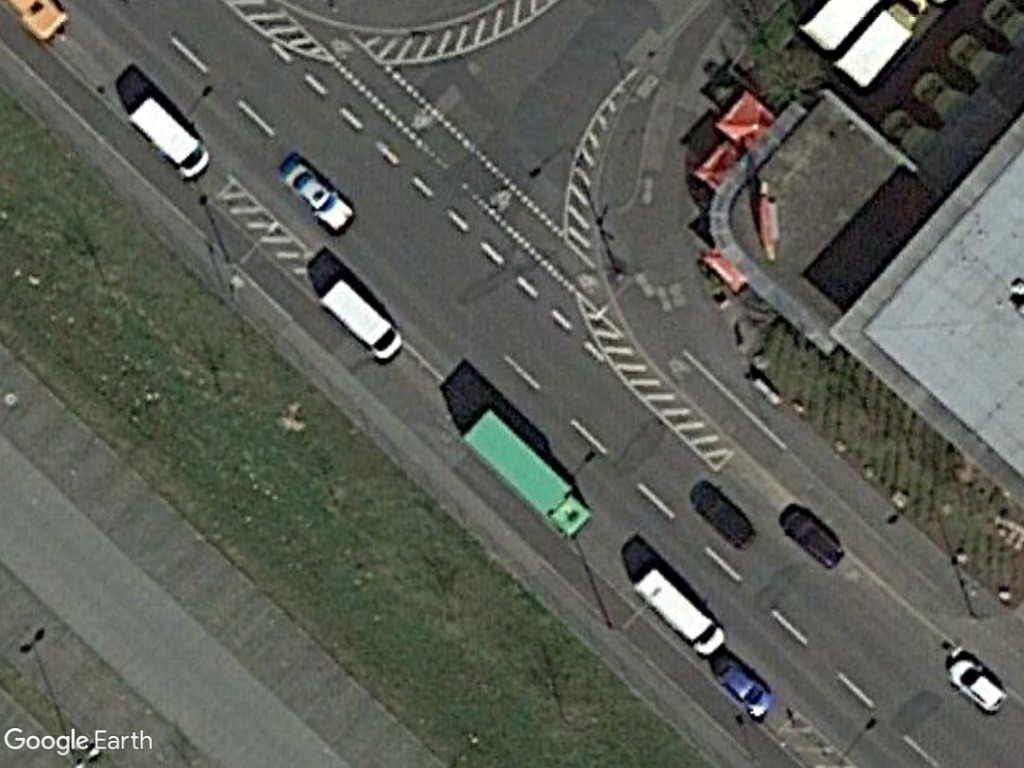car: (281, 153, 360, 234), (944, 649, 1014, 721), (706, 646, 769, 722)
truck: (457, 396, 594, 551)
van: (631, 558, 734, 662), (316, 266, 410, 368), (124, 87, 215, 186)
